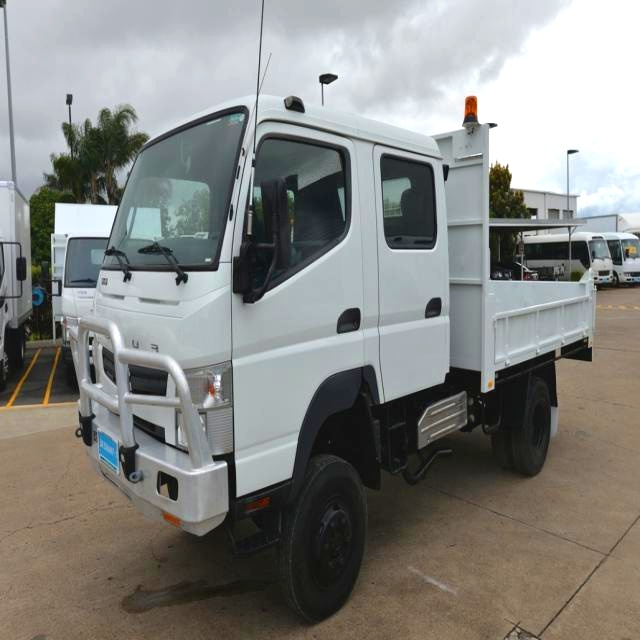truck: (53, 87, 612, 640)
